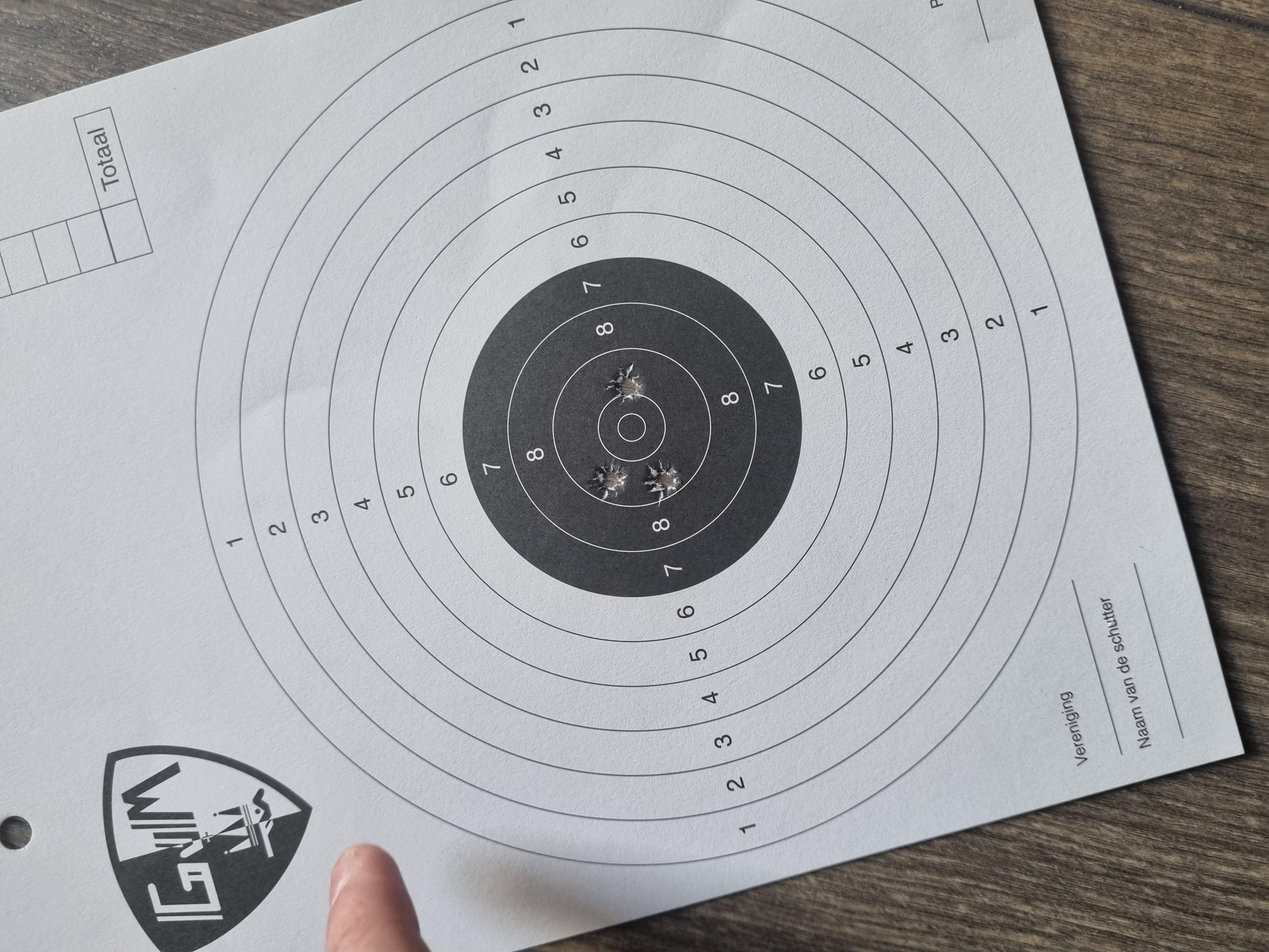hole: (591, 482, 655, 512), (598, 441, 658, 472), (730, 454, 787, 483)
